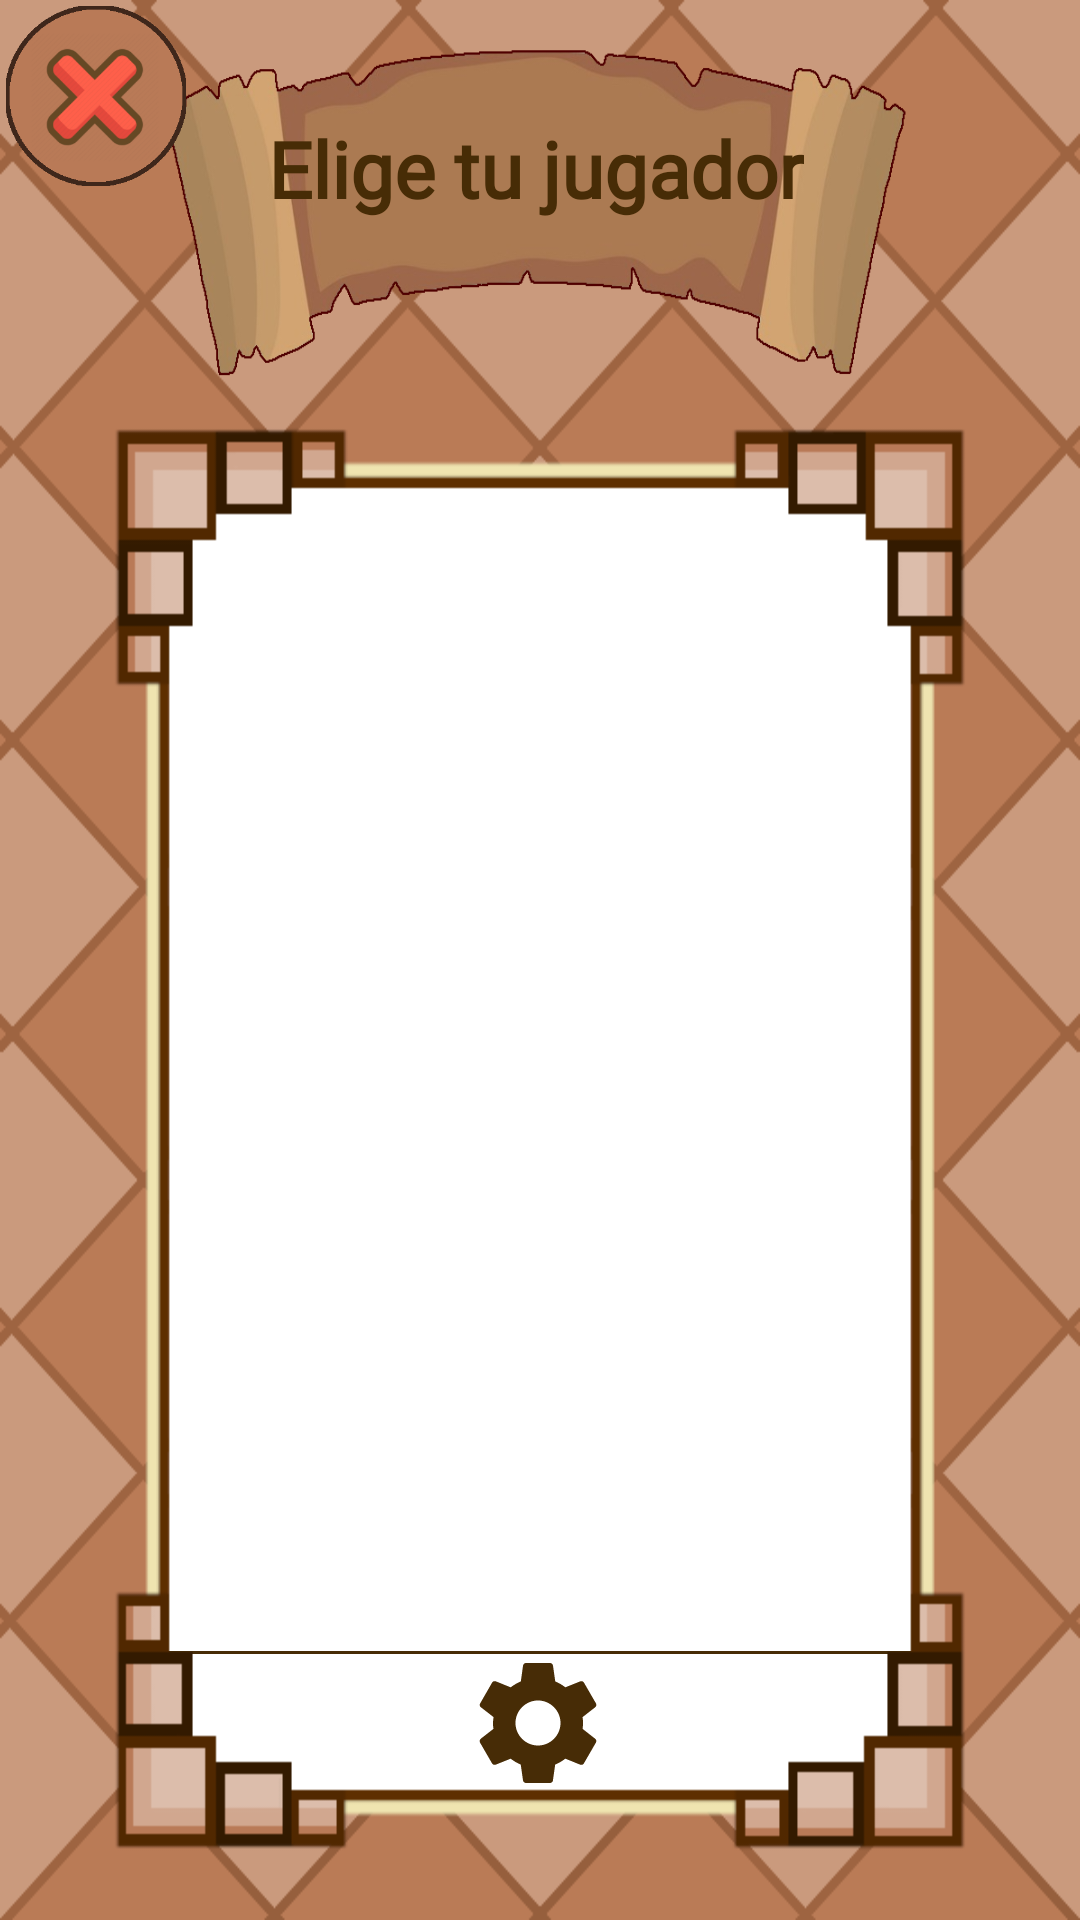

Named icons in this screenshot (1080px×1920px) and their centers, [x,y]:
Ajustes: [538,1723]
cerrar: [96,96]
